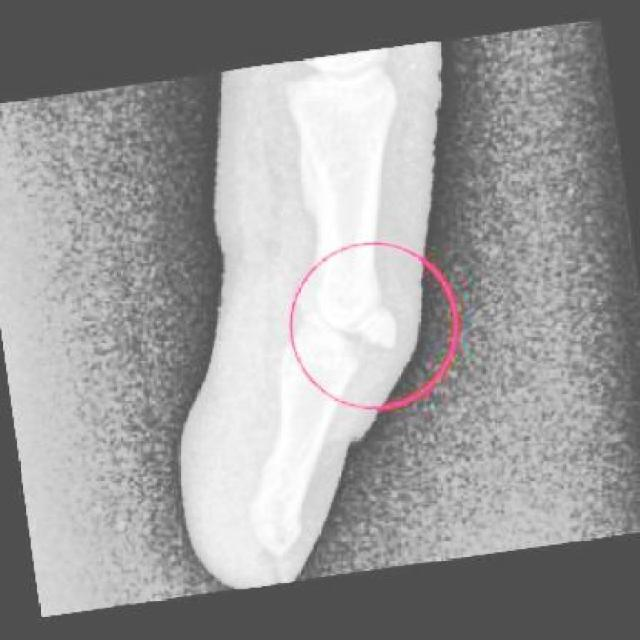Fracture: (326, 294, 419, 403)
